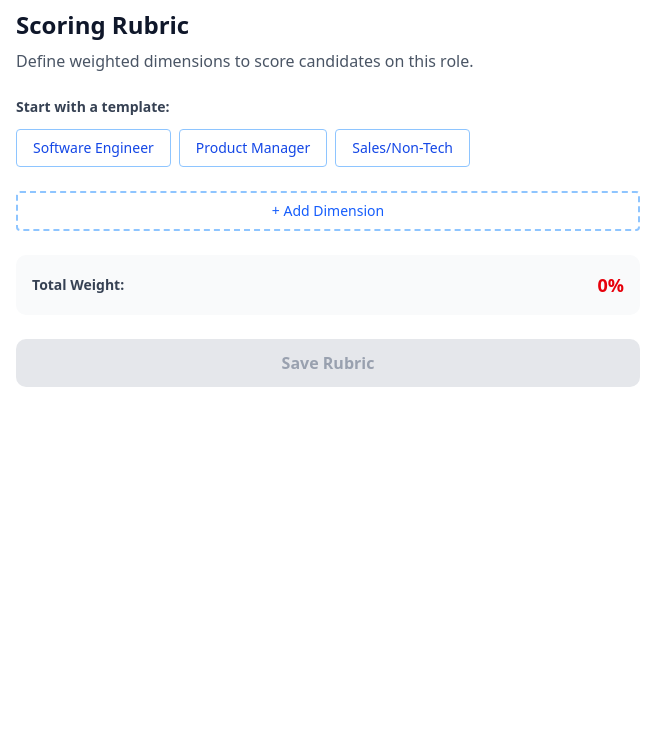
RubricBuilder › applies template when clicked
The width and height of the screenshot is (657, 753).
Click the button "Software Engineer": (93, 148) [16,129,171,167]
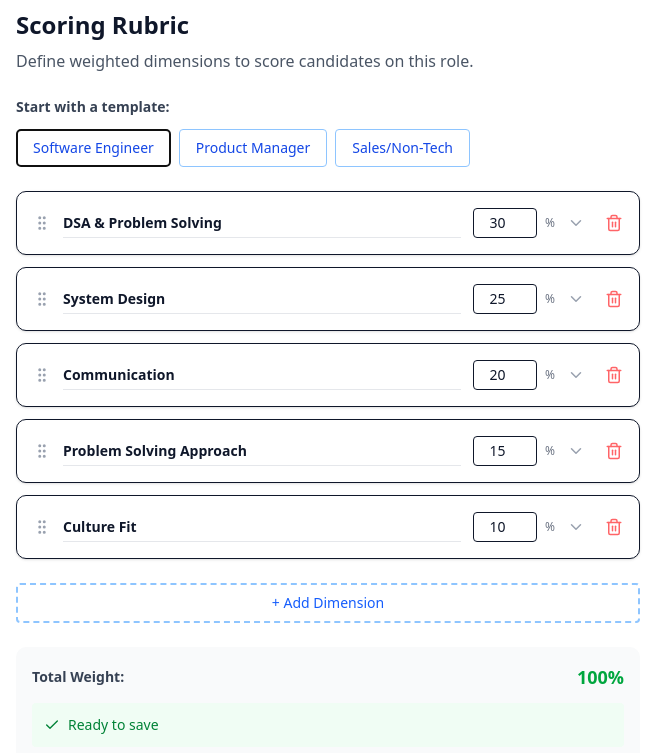
Check: the 1st field showing "DSA & Problem Solving" is shown, box [63,208,461,238]
Check: the 2nd field showing "System Design" is shown, box [63,284,461,314]
